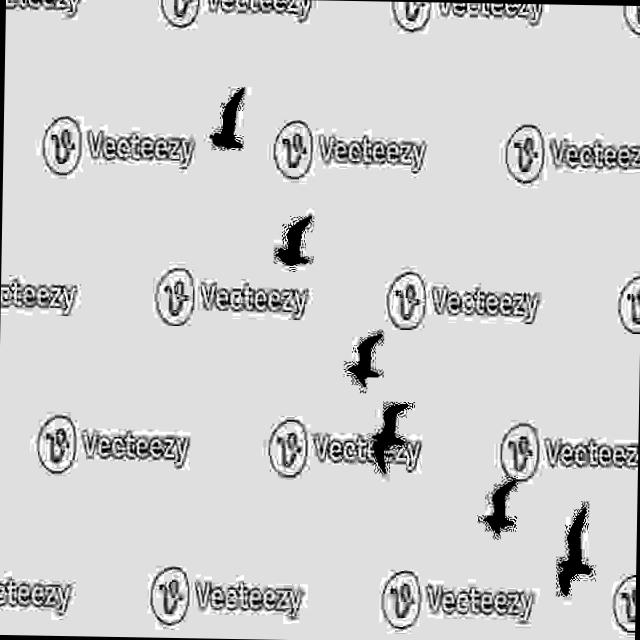bird: (551, 504, 596, 598), (206, 80, 252, 154), (367, 401, 410, 474), (271, 210, 319, 270), (346, 329, 389, 386), (480, 478, 518, 538)
